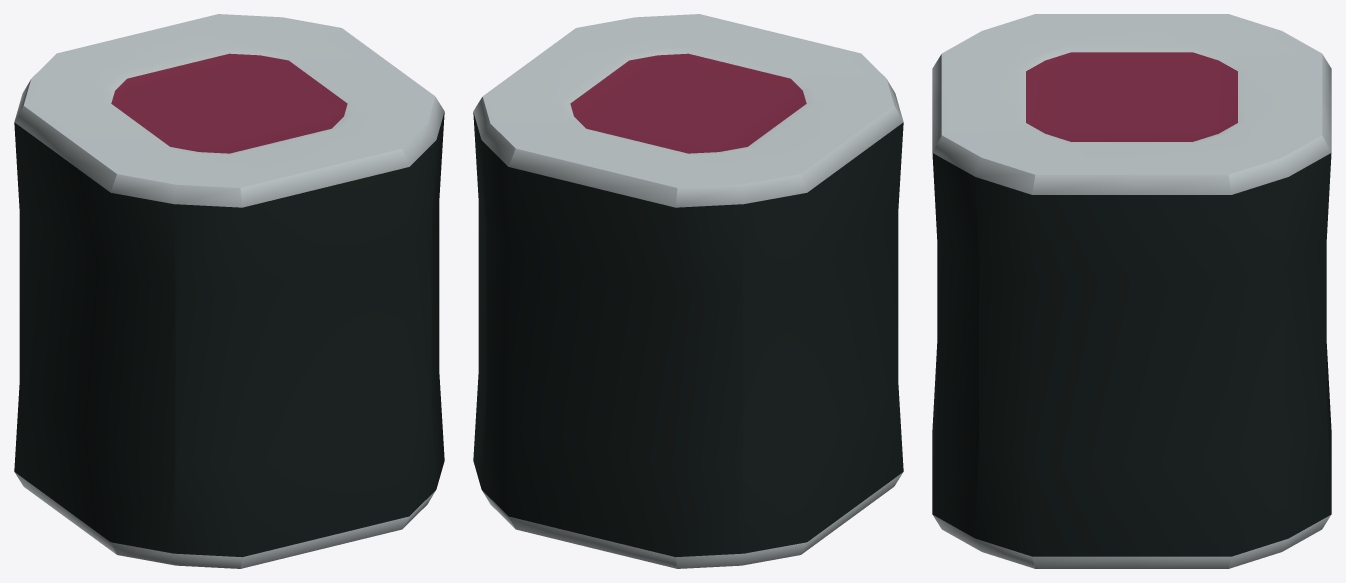
File: sushi.fbx
The picture shows the model from 3 angles, left to right: view 1: azimuth 30°, elevation 25°; view 2: azimuth 150°, elevation 25°; view 3: azimuth 270°, elevation 25°; orthographic projection. The views are drawn at different scales.
Visible parts, largest first — view 1: sushi; view 2: sushi; view 3: sushi.
Boxes of the visible parts, x1,y1,x2,y2 form: sushi: (14, 14, 444, 568); sushi: (473, 14, 903, 568); sushi: (932, 14, 1331, 568).
Bounding box in the file's own units: 300 × 327 × 300.
